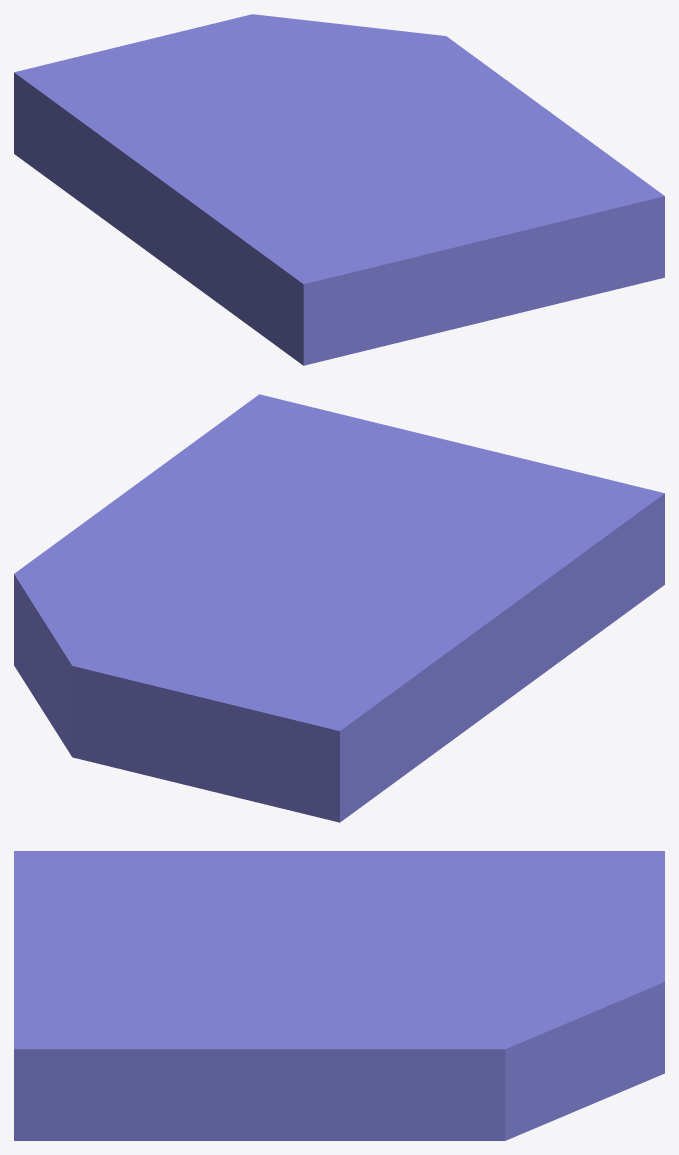
Rendered from BodenBad.fbx.
3 renders of one model, top to bottom at view 1: azimuth 30°, elevation 25°; view 2: azimuth 150°, elevation 25°; view 3: azimuth 270°, elevation 25°, orthographic. The views are drawn at different scales.
Parts seen in each view (by area): view 1: BodenBad; view 2: BodenBad; view 3: BodenBad.
Boxes of the visible parts, x1,y1,x2,y2 form: BodenBad: (14, 14, 664, 365); BodenBad: (14, 394, 664, 822); BodenBad: (14, 851, 664, 1140).
Size of the model in its own units: 232 by 50 by 322.
